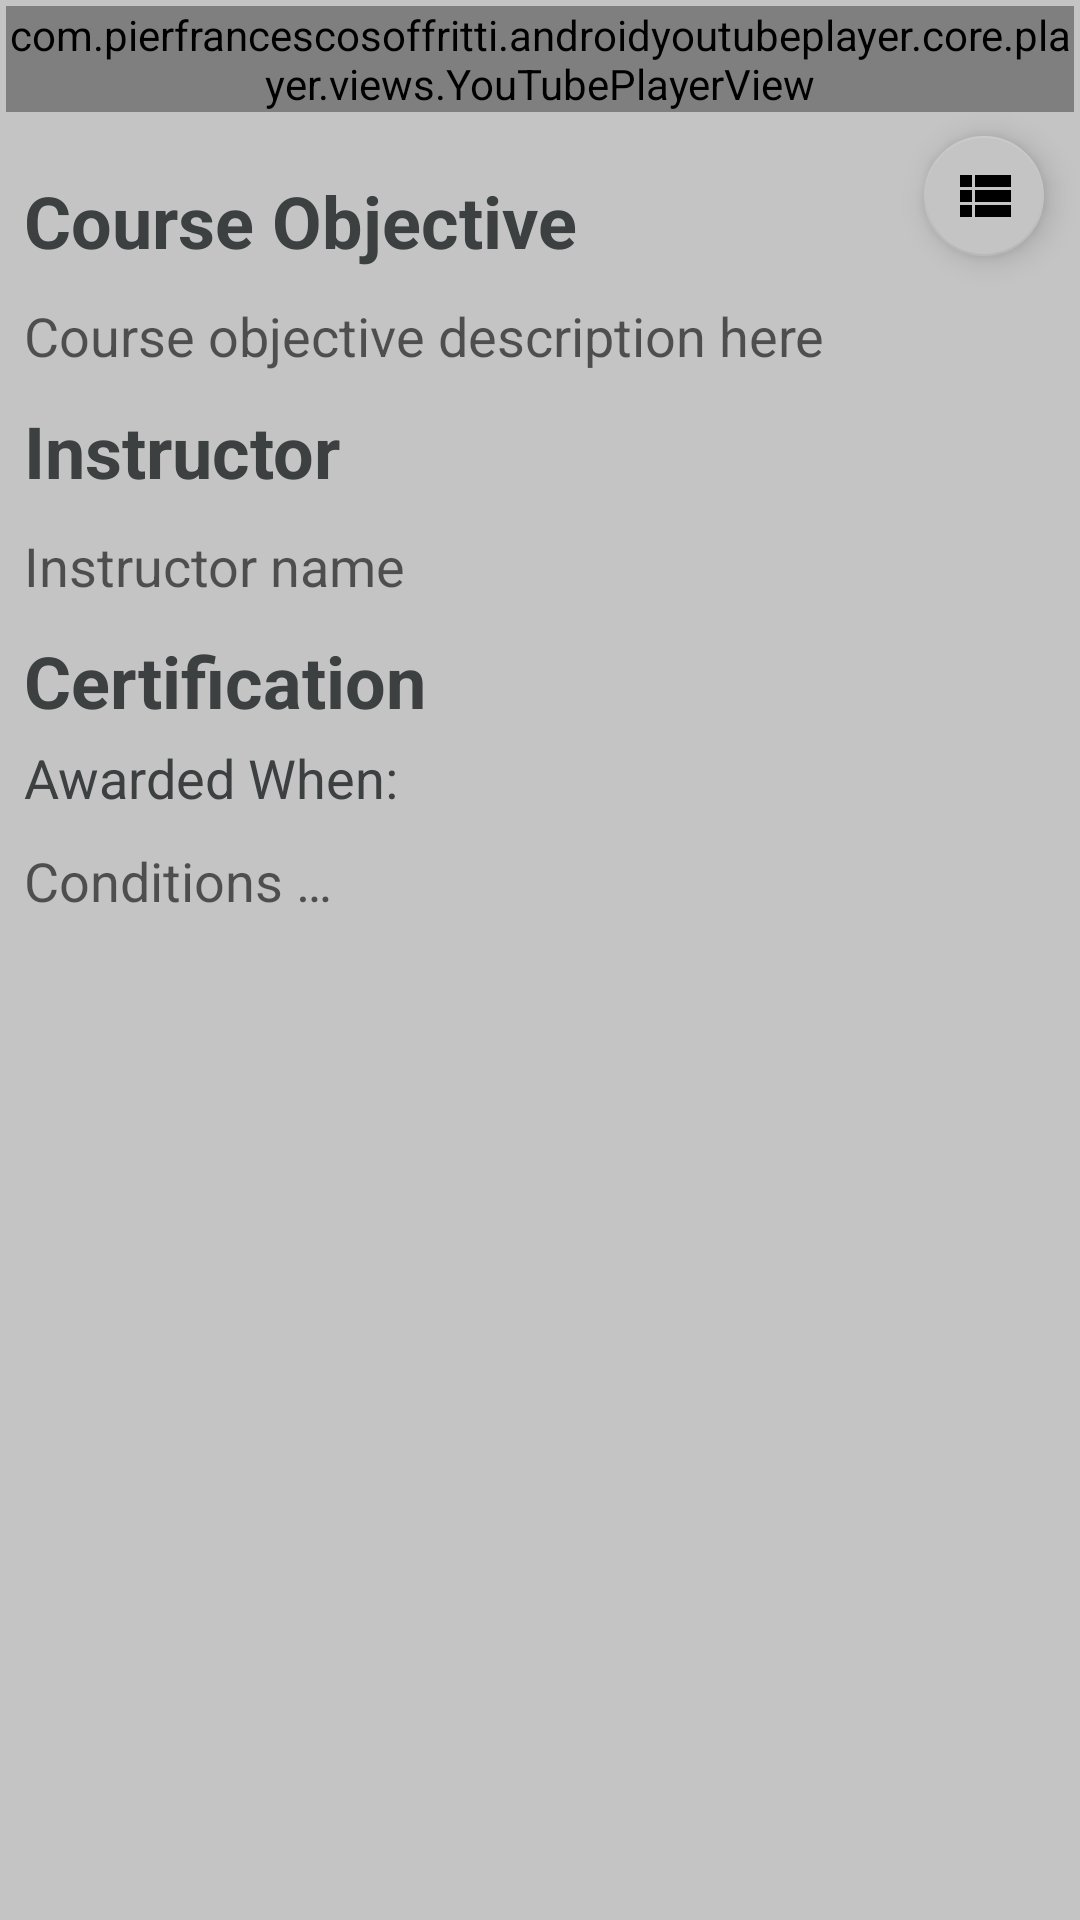

Screen size 1080*1920. Icon name, then its box in pixels as (x1=x1, y1=y1, x2=x2, y2=y2):
Course Info: (x1=960, y1=175, x2=1044, y2=230)
